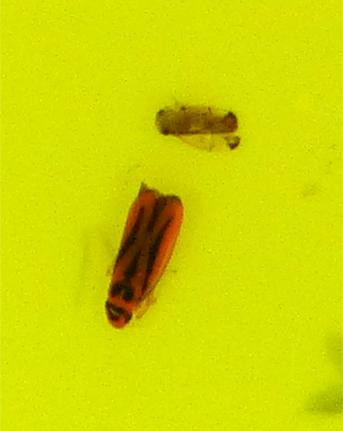Hemiptera: (100, 181, 189, 331), (151, 100, 243, 152)
